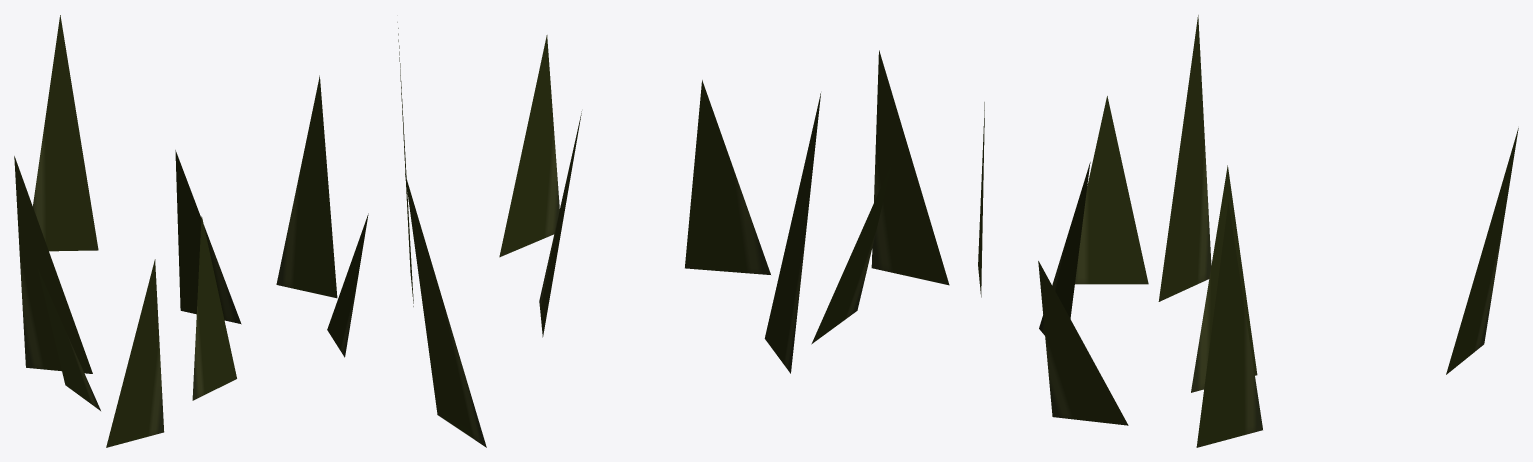
The model's file is EnvFldMD_FoliageGrass_A_MA_Short.FBX.
3 renders of one model, left to right at view 1: azimuth 30°, elevation 25°; view 2: azimuth 150°, elevation 25°; view 3: azimuth 270°, elevation 25°, orthographic. The views are drawn at different scales.
Parts seen in each view (by area): view 1: EnvFldMD_FoliageGrass_A_MA_Short; view 2: EnvFldMD_FoliageGrass_A_MA_Short; view 3: EnvFldMD_FoliageGrass_A_MA_Short.
Part boxes in pixels (box(x1,y1,x2,y2)): EnvFldMD_FoliageGrass_A_MA_Short: box(14, 15, 368, 447); EnvFldMD_FoliageGrass_A_MA_Short: box(397, 22, 949, 447); EnvFldMD_FoliageGrass_A_MA_Short: box(978, 15, 1518, 447).
Size of the model in its own units: 37.59 by 23.49 by 45.36.
Materials: 1 (1 with a texture image).
